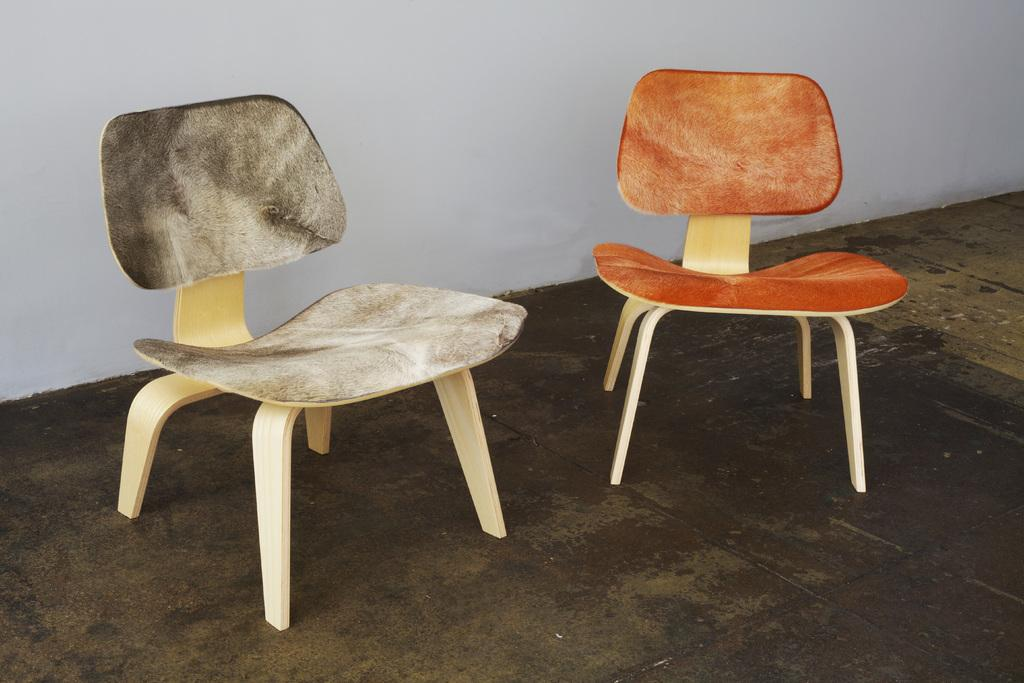Chair: (92, 90, 520, 633), (584, 53, 895, 527)
